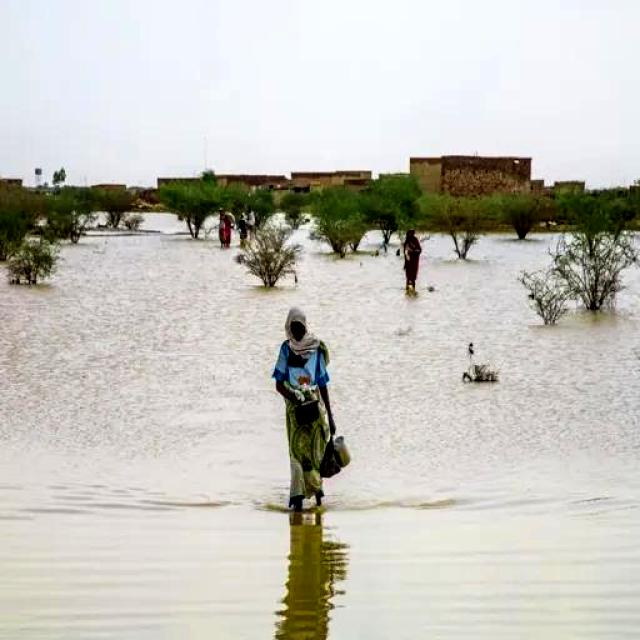civilian: (253, 301, 354, 522), (394, 220, 429, 302), (219, 213, 235, 252), (214, 208, 226, 249), (236, 213, 248, 247)
